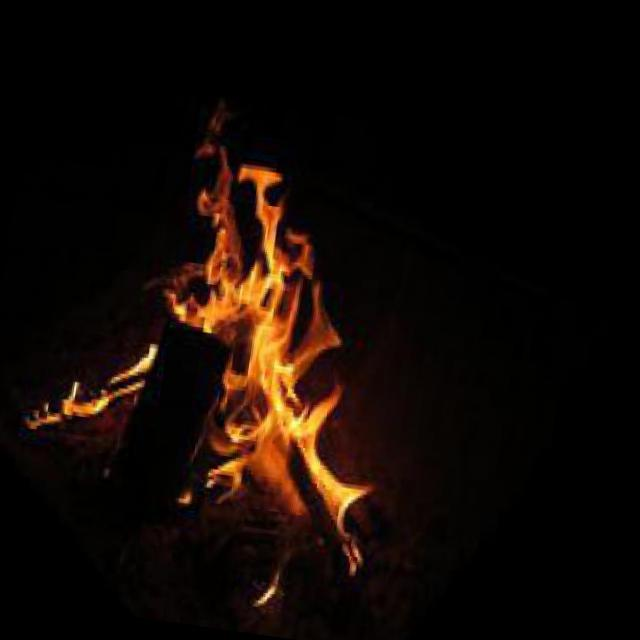fire: (11, 100, 428, 594)
